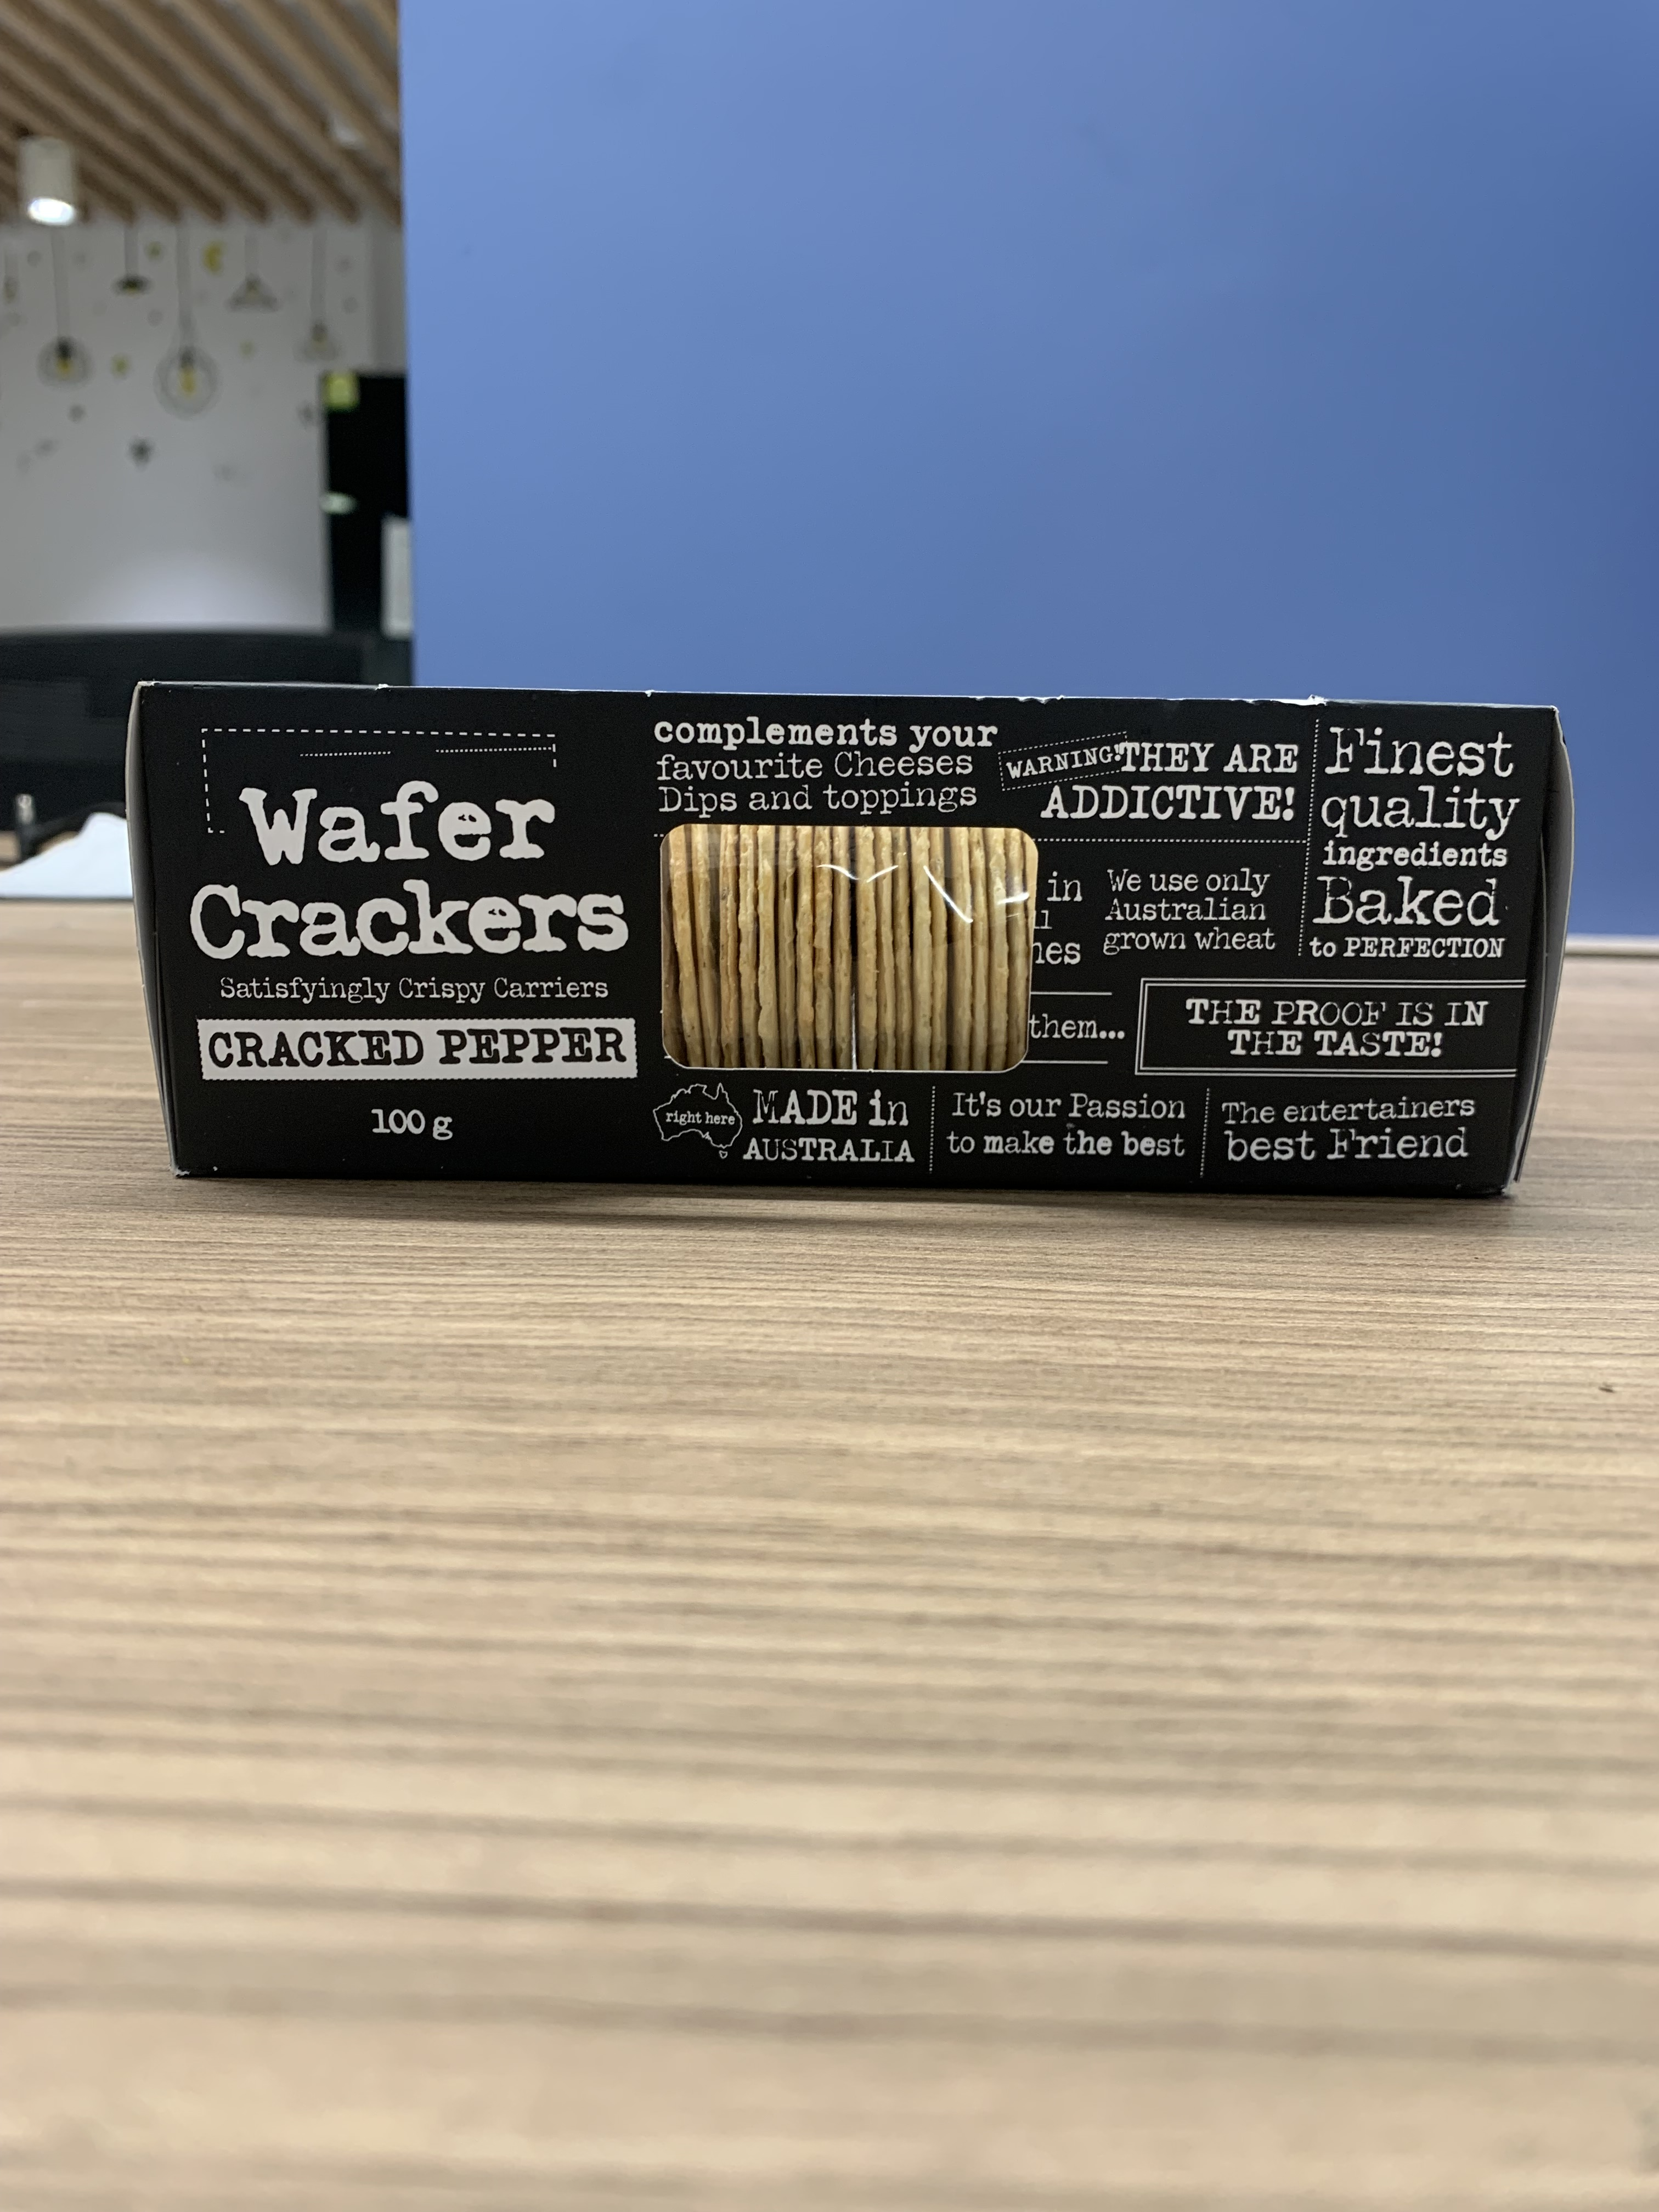crackers_100g-199g: (176, 685, 1520, 1181)
